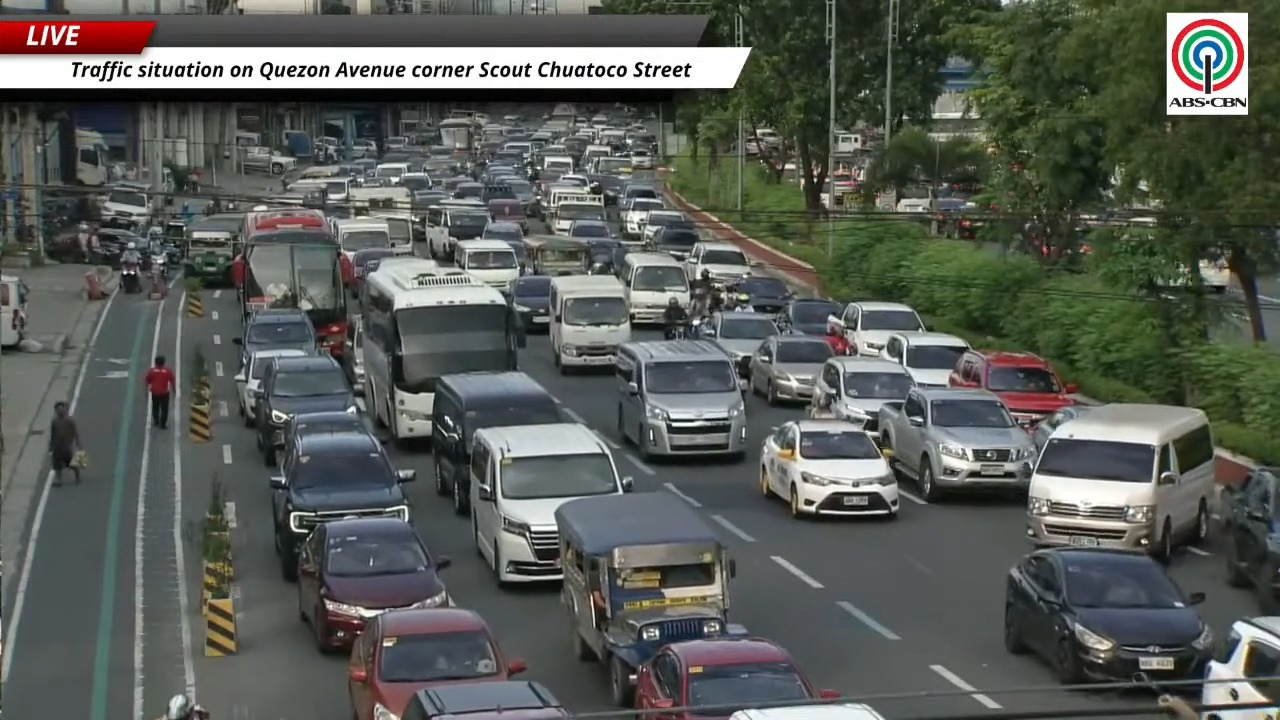bus: (362, 258, 525, 441), (232, 208, 352, 354), (437, 119, 474, 154)
car: (1003, 547, 1213, 683), (270, 431, 415, 580), (296, 517, 449, 651), (348, 607, 526, 719), (634, 638, 838, 719), (760, 419, 899, 518), (254, 355, 358, 466), (949, 349, 1077, 427), (1222, 466, 1279, 614), (1201, 616, 1279, 719), (400, 680, 568, 719), (747, 335, 832, 404), (234, 348, 306, 426), (828, 302, 926, 356), (701, 311, 779, 377), (232, 308, 317, 367), (881, 332, 968, 386), (284, 411, 369, 445), (1031, 405, 1096, 449), (506, 275, 551, 331), (729, 703, 886, 719), (777, 298, 841, 336), (736, 275, 793, 314), (646, 221, 700, 260), (352, 247, 394, 296), (339, 315, 365, 394), (583, 238, 628, 276), (486, 194, 527, 233), (481, 220, 524, 244), (568, 220, 615, 239), (453, 179, 485, 201)
motorcycle: (121, 263, 140, 293), (149, 253, 168, 280), (664, 324, 687, 340)
truck: (879, 387, 1037, 501), (546, 187, 606, 233), (73, 129, 109, 186), (239, 146, 296, 175)
